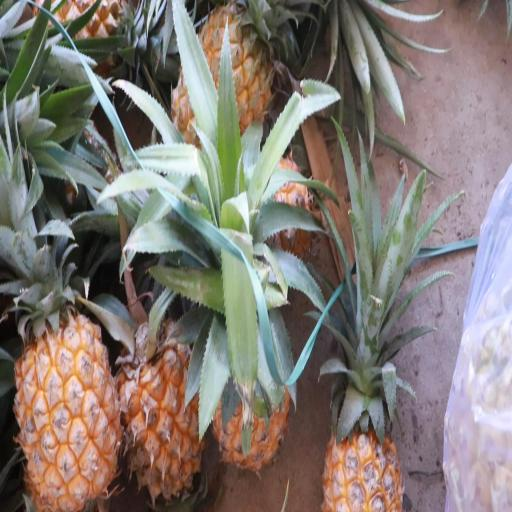Pineapple - v8 v1: (5, 293, 121, 512), (164, 0, 279, 193), (114, 312, 211, 512), (320, 339, 408, 512)
